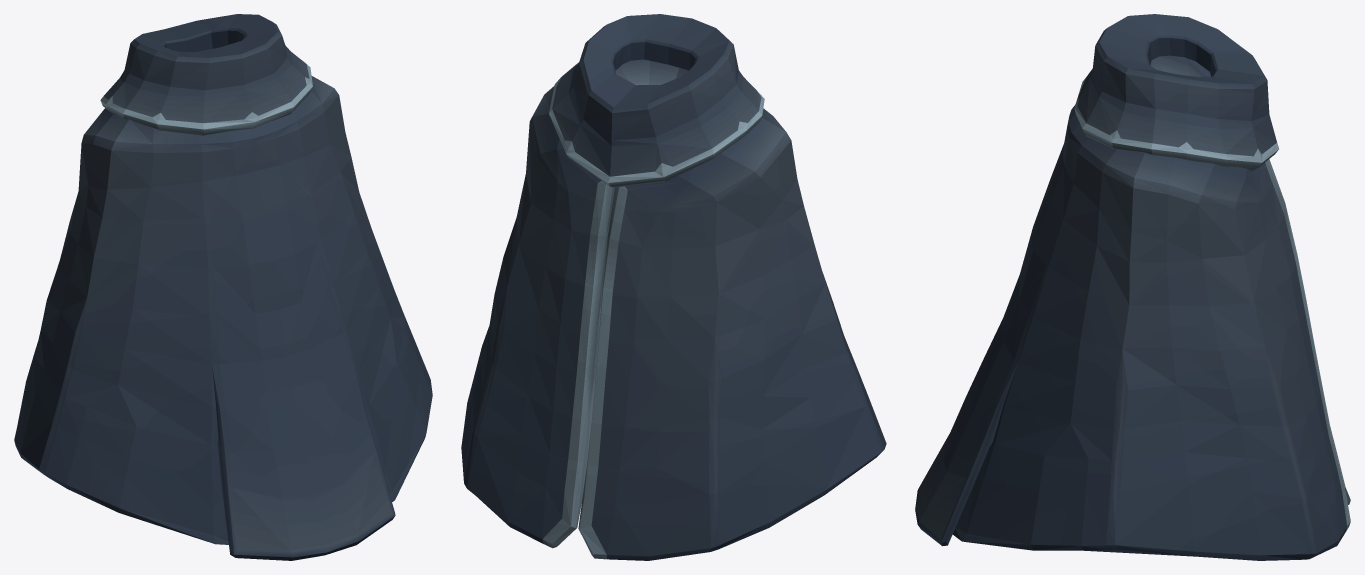
The model's file is CharSkyKid_Wing_AP11Uniform_01.glb.
3 views of the same model, side by side, from view 1: azimuth 30°, elevation 25°; view 2: azimuth 150°, elevation 25°; view 3: azimuth 270°, elevation 25° (orthographic). The views are drawn at different scales.
Parts seen in each view (by area): view 1: CharSkyKid_Wing_AP11Uniform_01; view 2: CharSkyKid_Wing_AP11Uniform_01; view 3: CharSkyKid_Wing_AP11Uniform_01.
Part boxes in pixels (x1,y1,x2,y2): CharSkyKid_Wing_AP11Uniform_01: (14, 14, 432, 560); CharSkyKid_Wing_AP11Uniform_01: (461, 14, 886, 560); CharSkyKid_Wing_AP11Uniform_01: (915, 14, 1350, 560).
Size of the model in its own units: 6.52 by 7.06 by 5.88.
1 material, 1 textured.
